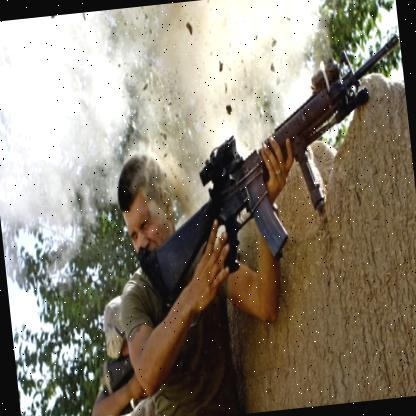rifle: (130, 28, 416, 317)
